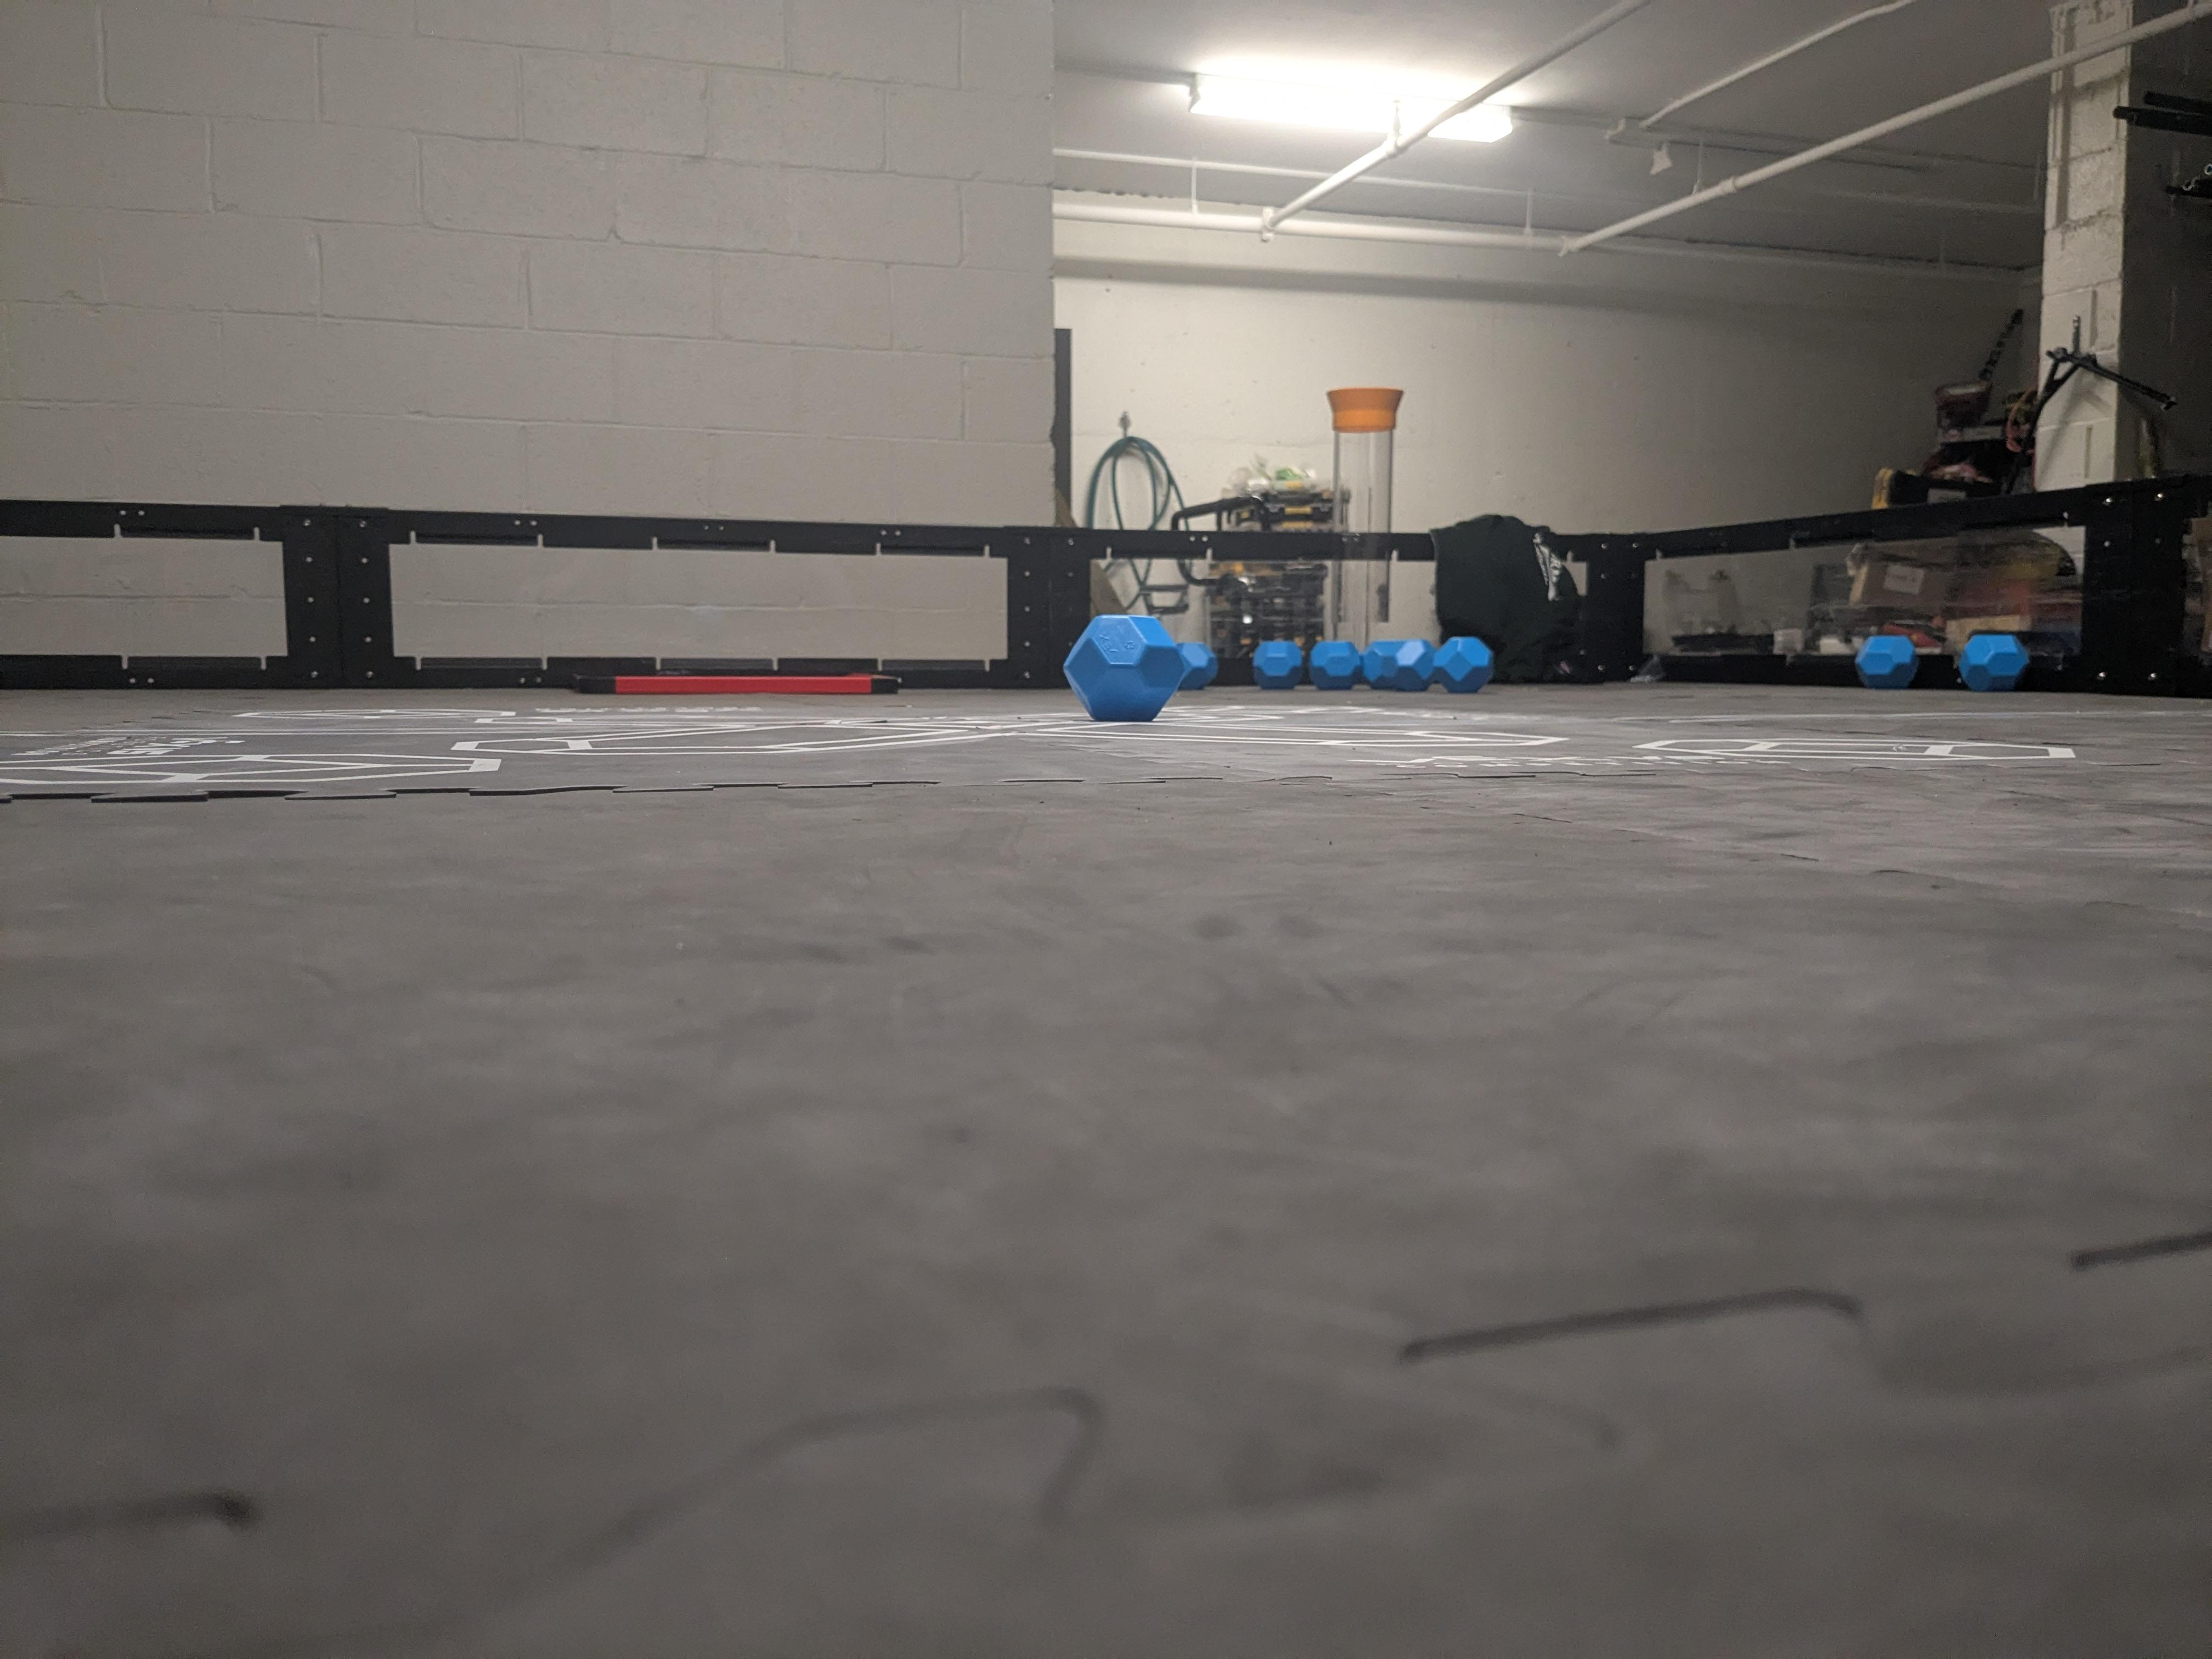Vex-Pieces-BLUE: (1068, 613, 1211, 723), (1958, 633, 2029, 692), (1360, 638, 1433, 692), (1430, 636, 1494, 694), (1855, 634, 1918, 688), (1308, 640, 1364, 690), (1252, 640, 1303, 690)
